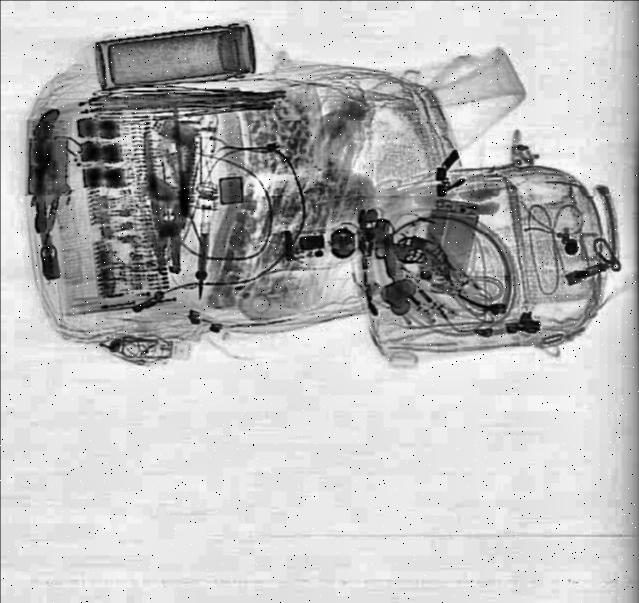Pliers: (140, 127, 200, 273)
